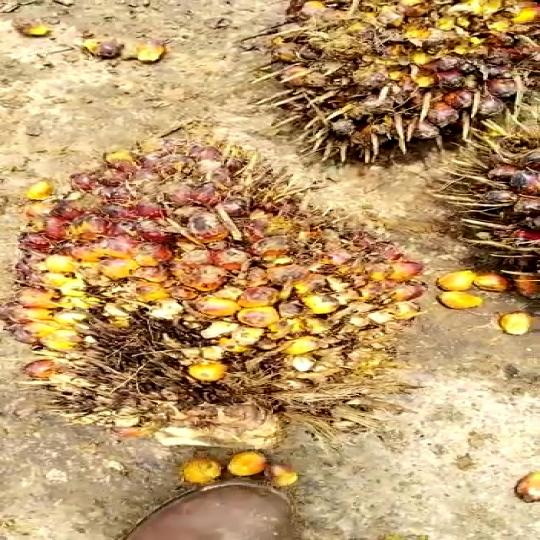masak: (0, 125, 454, 437), (206, 0, 538, 155)
